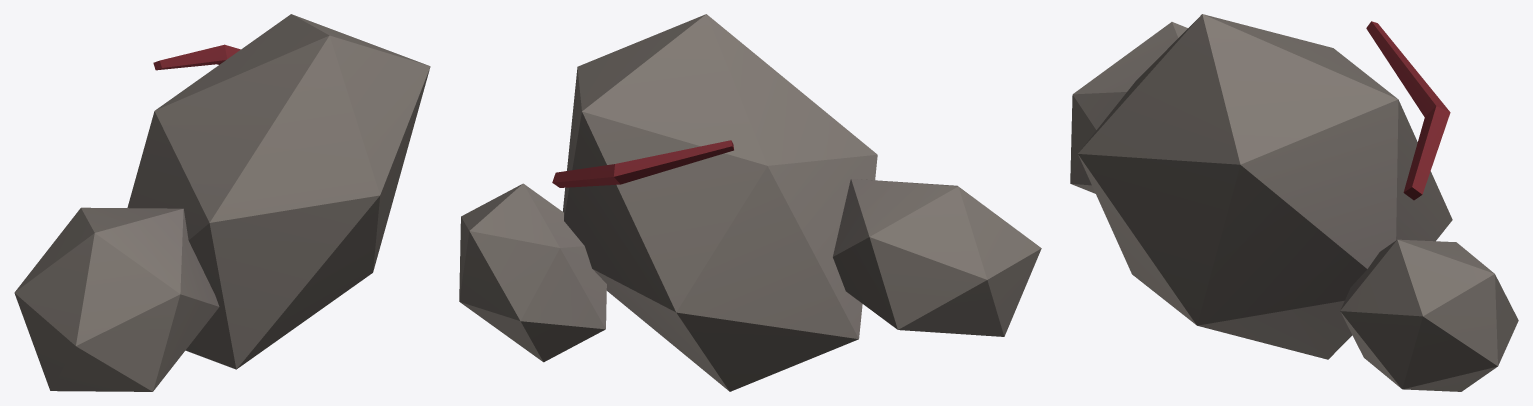
The model's file is BM_OreCluster.glb.
The picture shows the model from 3 angles, left to right: view 1: azimuth 30°, elevation 25°; view 2: azimuth 150°, elevation 25°; view 3: azimuth 270°, elevation 25°; orthographic projection. The views are drawn at different scales.
Parts seen in each view (by area): view 1: BM_OreCluster__Body; view 2: BM_OreCluster__Body; view 3: BM_OreCluster__Body.
Part boxes in pixels (x1=…): BM_OreCluster__Body: x1=14, y1=14, x2=430, y2=391; BM_OreCluster__Body: x1=459, y1=14, x2=1041, y2=391; BM_OreCluster__Body: x1=1070, y1=14, x2=1518, y2=391.
Size of the model in its own units: 7.64 by 5.25 by 5.46.
